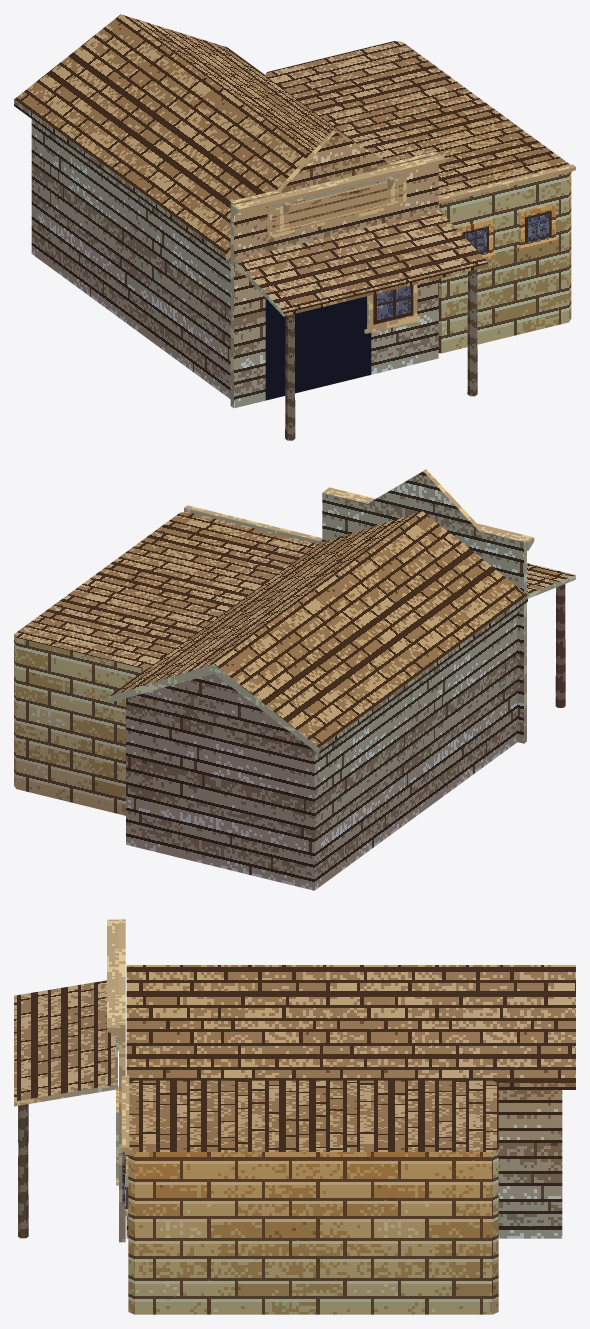
The model's file is wtown.sheriff__entry.glb.
The picture shows the model from 3 angles, top to bottom: view 1: azimuth 30°, elevation 25°; view 2: azimuth 150°, elevation 25°; view 3: azimuth 270°, elevation 25°; orthographic projection. The views are drawn at different scales.
Visible parts, largest first — view 1: kit_roof, kit_jail, kit_body, kit_porch, kit_front, kit_card_panes, kit_trim, kit_windows; view 2: kit_body, kit_roof, kit_jail, kit_front, kit_porch, kit_trim; view 3: kit_jail, kit_roof, kit_porch, kit_body, kit_front, kit_trim, kit_windows.
Boxes of the visible parts, left/top/right/bottom form: kit_roof: left=14, top=14, right=439, bottom=260; kit_jail: left=265, top=41, right=575, bottom=353; kit_body: left=31, top=119, right=230, bottom=399; kit_porch: left=234, top=210, right=487, bottom=440; kit_front: left=230, top=130, right=438, bottom=408; kit_card_panes: left=265, top=176, right=551, bottom=400; kit_trim: left=231, top=154, right=445, bottom=237; kit_windows: left=364, top=203, right=558, bottom=333; kit_body: left=126, top=610, right=516, bottom=890; kit_roof: left=108, top=511, right=527, bottom=753; kit_jail: left=14, top=505, right=322, bottom=815; kit_front: left=322, top=469, right=526, bottom=743; kit_porch: left=527, top=563, right=575, bottom=707; kit_trim: left=323, top=487, right=534, bottom=550; kit_jail: left=121, top=1076, right=498, bottom=1314; kit_roof: left=126, top=965, right=575, bottom=1089; kit_porch: left=14, top=980, right=117, bottom=1238; kit_body: left=126, top=1090, right=562, bottom=1238; kit_front: left=119, top=919, right=125, bottom=1242; kit_trim: left=107, top=919, right=120, bottom=1050; kit_windows: left=116, top=1086, right=128, bottom=1216.
Bounding box in the file's own units: 7.85 × 5.4 × 10.32.
9 materials, 9 textured.
